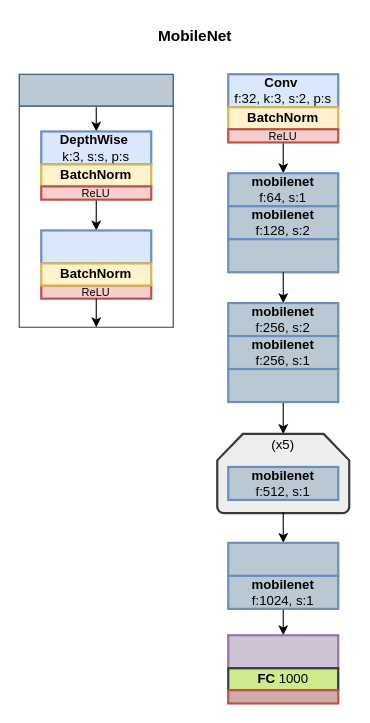
Some shapes in this 370 by 723 pixel diagram are drawn without their labels. The shapes that lost their labels are listed below. From the top down, each one's box as (x1, y1, x2, y2) in pixels, then its label:
(18, 73, 173, 327): mobilenet f, s
(40, 229, 152, 264): Conv f:64, k:7, s:2, p:s
(227, 238, 339, 273): mobilenet f:128, s:1
(227, 367, 339, 403): mobilenet f:512, s:2
(227, 541, 339, 576): mobilenet f:1024, s:2
(227, 634, 339, 669): AvgPool k:7, s:1
(227, 689, 339, 704): SoftMax
